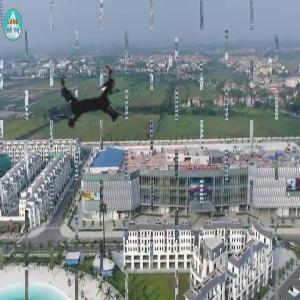drone: (20, 36, 157, 173)
